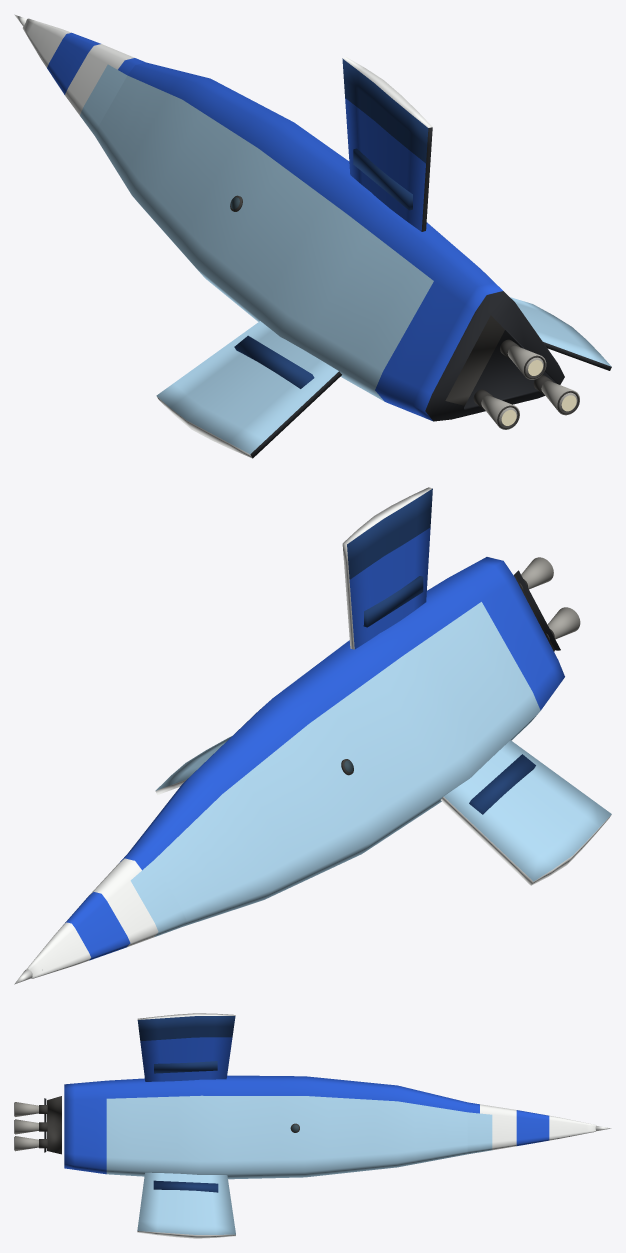
Rendered from Ship_Standard_6.glb.
3 renders of one model, top to bottom at view 1: azimuth 30°, elevation 25°; view 2: azimuth 150°, elevation 25°; view 3: azimuth 270°, elevation 25°, orthographic. The views are drawn at different scales.
Parts seen in each view (by area): view 1: Fuselage_RoundedTriangleTriFoldBody, Wing_LowerLeft_TriFoldCornerBladePaintedMesh, Wing_Dorsal_TriFoldCornerBladePaintedMesh, Nose_RoundedTriangleTaperedForwardSection, Wing_LowerRight_TriFoldCornerBladePaintedMesh, EngineBlock_AftTriFoldTrimFrame, EngineBlock_AftTriangularIntegratedMountPlate, WingRootSocket_LowerLeft_IntegratedEmbeddedShoulder, WingRootSocket_Dorsal_IntegratedEmbeddedShoulder, EngineBell_LowerRight_BurnishedNozzle, EngineBell_LowerLeft_BurnishedNozzle, EngineBell_Dorsal_BurnishedNozzle (+1 smaller); view 2: Fuselage_RoundedTriangleTriFoldBody, Wing_LowerLeft_TriFoldCornerBladePaintedMesh, Nose_RoundedTriangleTaperedForwardSection, Wing_Dorsal_TriFoldCornerBladePaintedMesh, WingRootSocket_LowerLeft_IntegratedEmbeddedShoulder, WingRootSocket_Dorsal_IntegratedEmbeddedShoulder, Wing_LowerRight_TriFoldCornerBladePaintedMesh, EngineBell_Dorsal_BurnishedNozzle, EngineBell_LowerLeft_BurnishedNozzle; view 3: Fuselage_RoundedTriangleTriFoldBody, Wing_Dorsal_TriFoldCornerBladePaintedMesh, Wing_LowerRight_TriFoldCornerBladePaintedMesh, Nose_RoundedTriangleTaperedForwardSection, EngineBlock_AftTriangularIntegratedMountPlate, WingRootSocket_Dorsal_IntegratedEmbeddedShoulder, WingRootSocket_LowerRight_IntegratedEmbeddedShoulder.
Boxes of the visible parts, x1=… form: Fuselage_RoundedTriangleTriFoldBody: x1=95, y1=62, x2=564, y2=421; Wing_LowerLeft_TriFoldCornerBladePaintedMesh: x1=156, y1=321, x2=341, y2=458; Wing_Dorsal_TriFoldCornerBladePaintedMesh: x1=342, y1=57, x2=432, y2=231; Nose_RoundedTriangleTaperedForwardSection: x1=22, y1=18, x2=145, y2=135; Wing_LowerRight_TriFoldCornerBladePaintedMesh: x1=510, y1=297, x2=611, y2=370; EngineBlock_AftTriFoldTrimFrame: x1=464, y1=330, x2=558, y2=409; EngineBlock_AftTriangularIntegratedMountPlate: x1=445, y1=315, x2=504, y2=405; WingRootSocket_LowerLeft_IntegratedEmbeddedShoulder: x1=234, y1=335, x2=314, y2=388; WingRootSocket_Dorsal_IntegratedEmbeddedShoulder: x1=353, y1=148, x2=412, y2=210; EngineBell_LowerRight_BurnishedNozzle: x1=541, y1=381, x2=579, y2=415; EngineBell_LowerLeft_BurnishedNozzle: x1=481, y1=395, x2=519, y2=429; EngineBell_Dorsal_BurnishedNozzle: x1=507, y1=345, x2=546, y2=379; Fuselage_RoundedTriangleTriFoldBody: x1=128, y1=557, x2=564, y2=927; Wing_LowerLeft_TriFoldCornerBladePaintedMesh: x1=441, y1=740, x2=611, y2=885; Nose_RoundedTriangleTaperedForwardSection: x1=26, y1=847, x2=186, y2=978; Wing_Dorsal_TriFoldCornerBladePaintedMesh: x1=342, y1=487, x2=432, y2=649; WingRootSocket_LowerLeft_IntegratedEmbeddedShoulder: x1=469, y1=754, x2=535, y2=814; WingRootSocket_Dorsal_IntegratedEmbeddedShoulder: x1=363, y1=576, x2=423, y2=627; Wing_LowerRight_TriFoldCornerBladePaintedMesh: x1=155, y1=736, x2=231, y2=794; EngineBell_Dorsal_BurnishedNozzle: x1=521, y1=557, x2=553, y2=589; EngineBell_LowerLeft_BurnishedNozzle: x1=547, y1=607, x2=580, y2=639; Fuselage_RoundedTriangleTriFoldBody: x1=64, y1=1075, x2=467, y2=1179; Wing_Dorsal_TriFoldCornerBladePaintedMesh: x1=137, y1=1013, x2=235, y2=1081; Wing_LowerRight_TriFoldCornerBladePaintedMesh: x1=137, y1=1172, x2=235, y2=1238; Nose_RoundedTriangleTaperedForwardSection: x1=467, y1=1102, x2=595, y2=1154; EngineBlock_AftTriangularIntegratedMountPlate: x1=47, y1=1096, x2=61, y2=1154; WingRootSocket_Dorsal_IntegratedEmbeddedShoulder: x1=154, y1=1061, x2=217, y2=1073; WingRootSocket_LowerRight_IntegratedEmbeddedShoulder: x1=153, y1=1180, x2=218, y2=1192.
Size of the model in its own units: 3.98 by 2.98 by 9.37.
